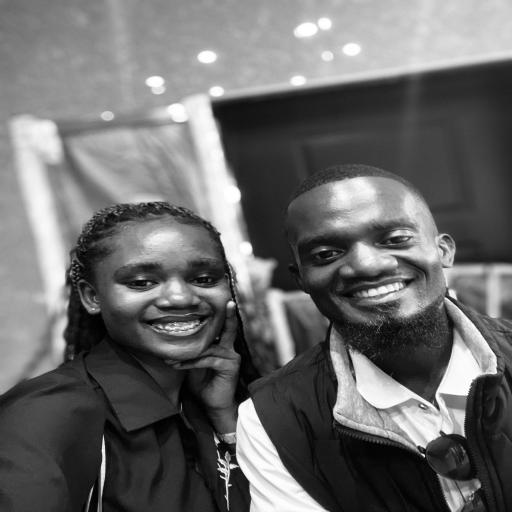MATTHIEU: (256, 148, 466, 363)
